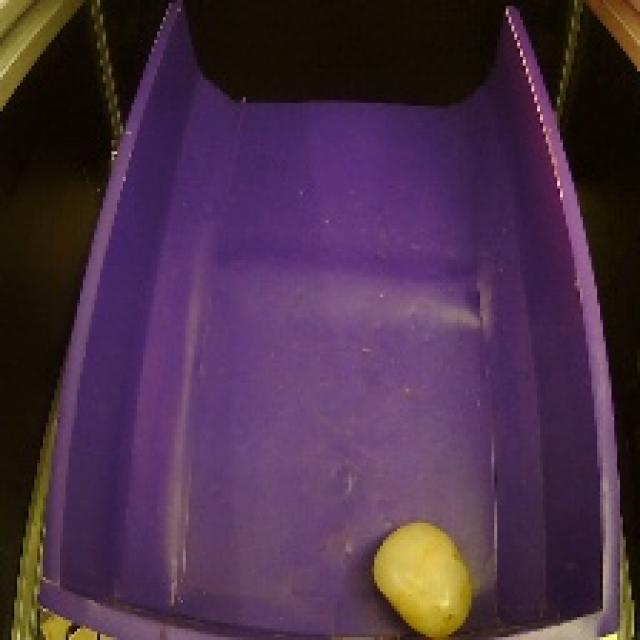cobbles: (361, 512, 479, 639)
